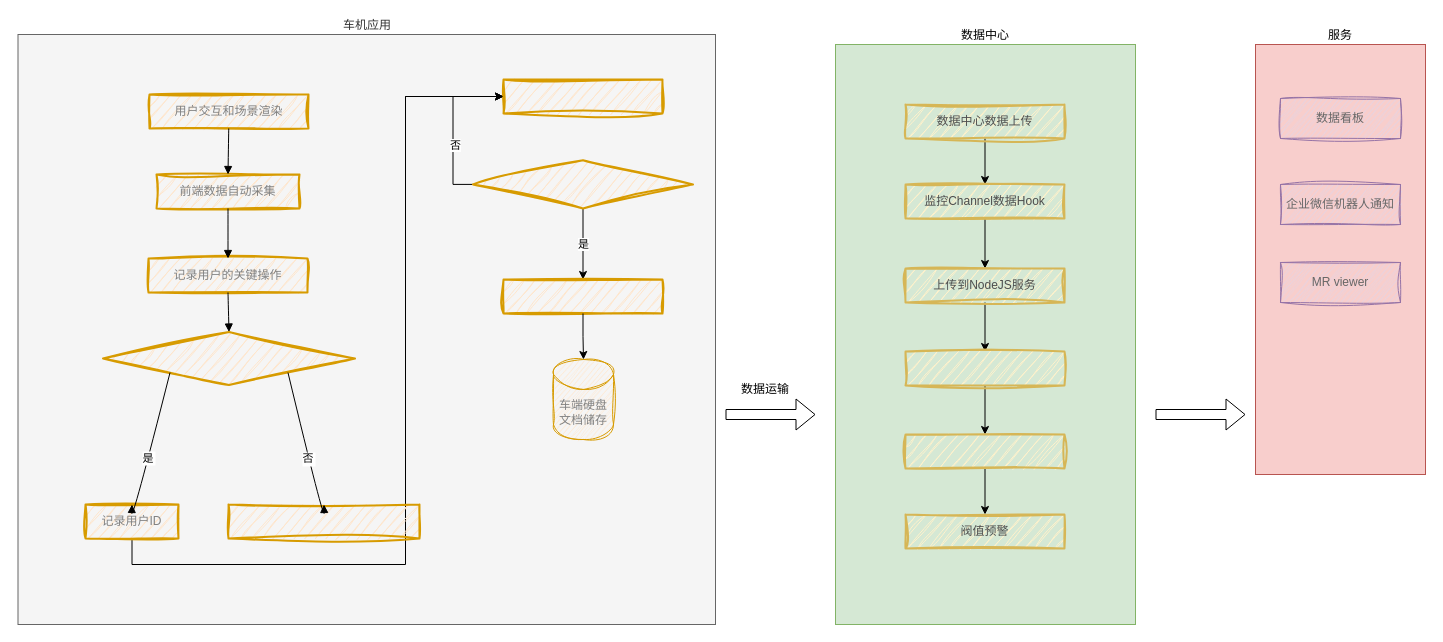
Image size: 1443x642. Some labels were removed from this diagram. The centre of each missing label's shape, as x and y in pixels:
前端监控记录: the point at 582,96
区分来自不同设备的数据: the point at 323,521
推送到Channel服务: the point at 582,296
数据清洗: the point at 984,368
是否200已有条记录: the point at 583,184
是否有用户ID?: the point at 229,358
生成报告: the point at 984,451
